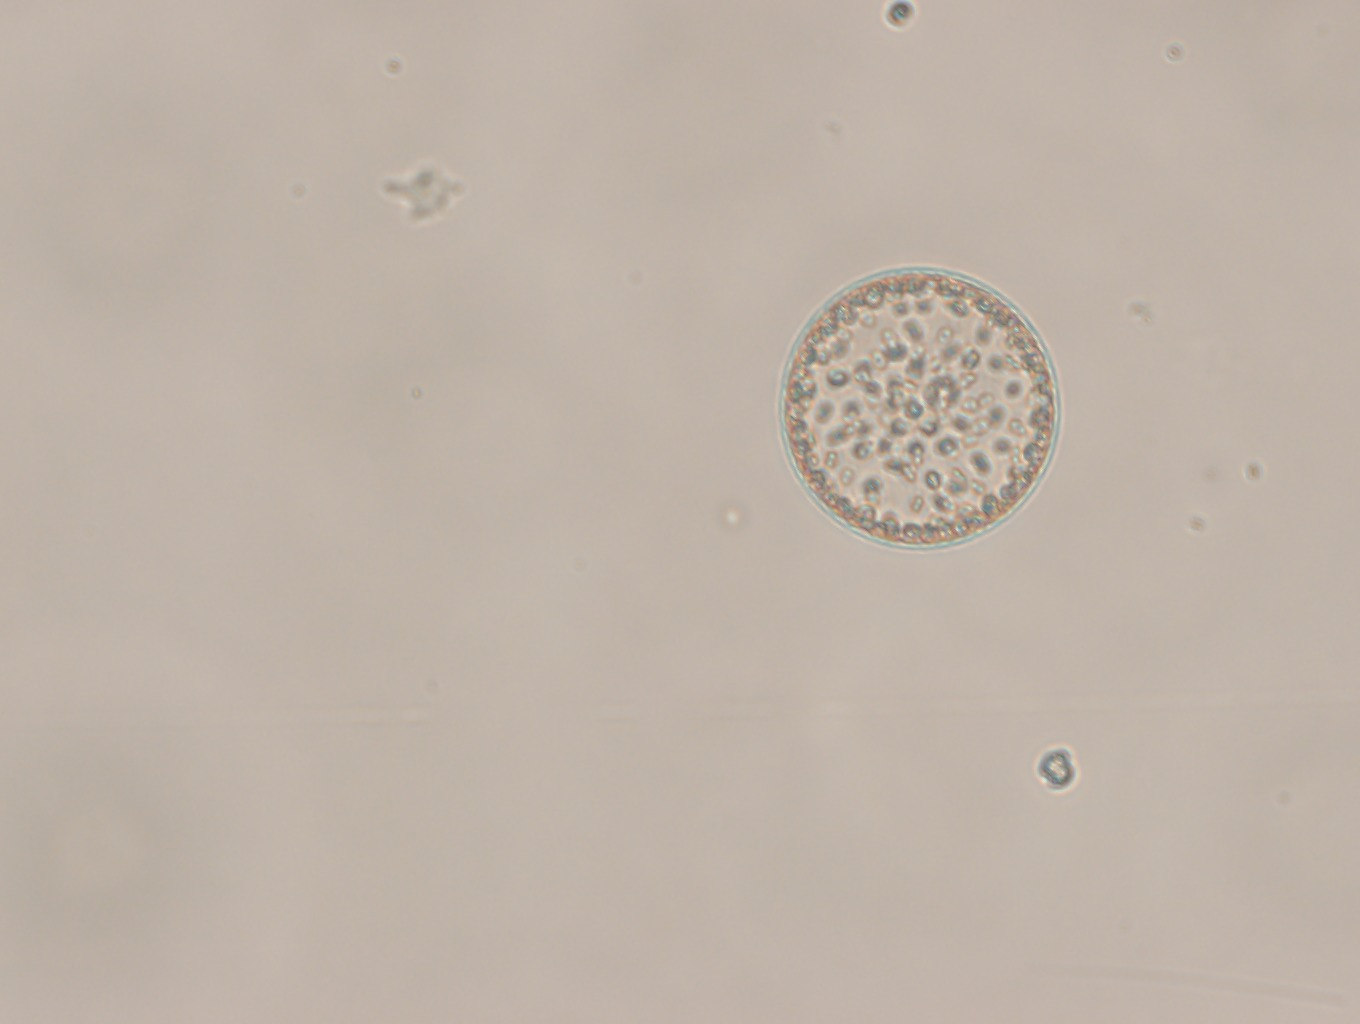coscinodiscus: (774, 257, 1065, 555)
